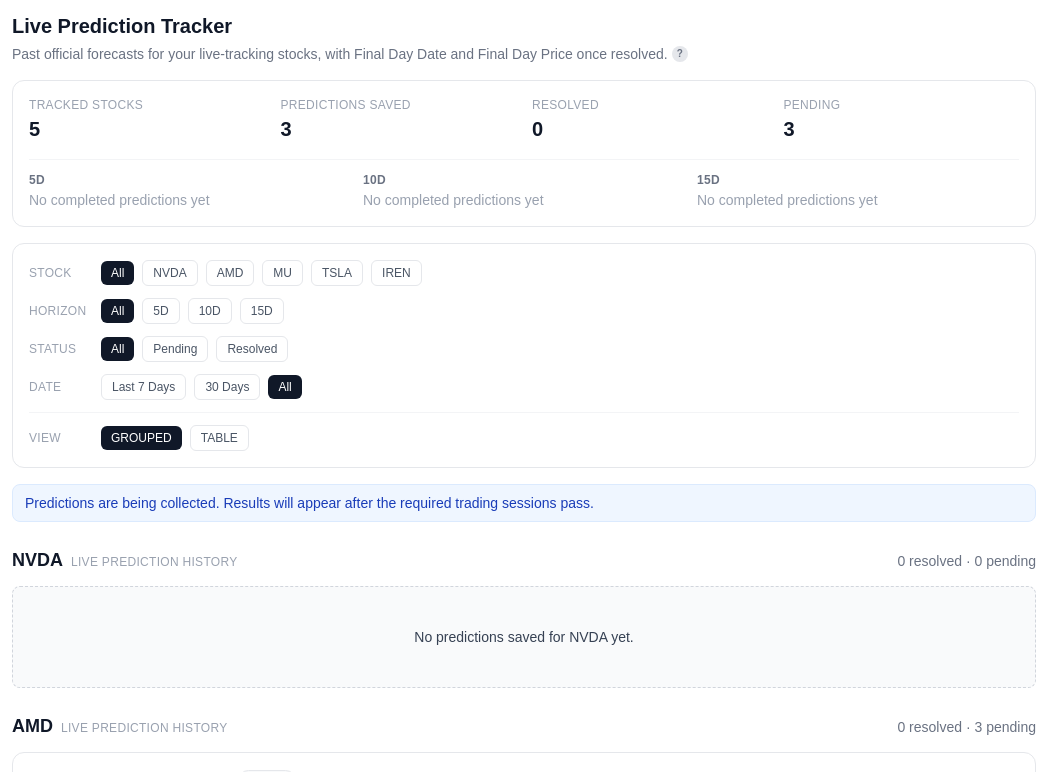
PredictionTrackerPage › toggles between GROUPED and TABLE views, defaulting to GROUPED
The image size is (1048, 772).
Click the button with test id "view-toggle-table" at coordinates (219, 438), box [190, 425, 249, 451]
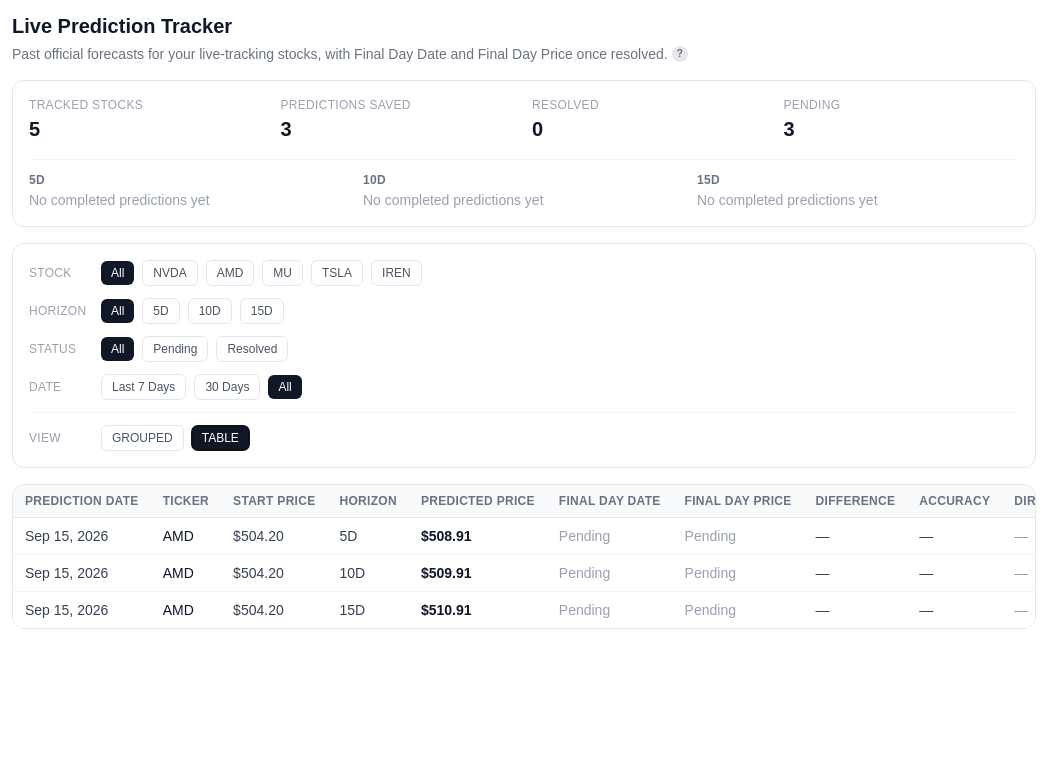
Now the table with test id "prediction-table" is shown, box [13, 485, 1036, 628]
